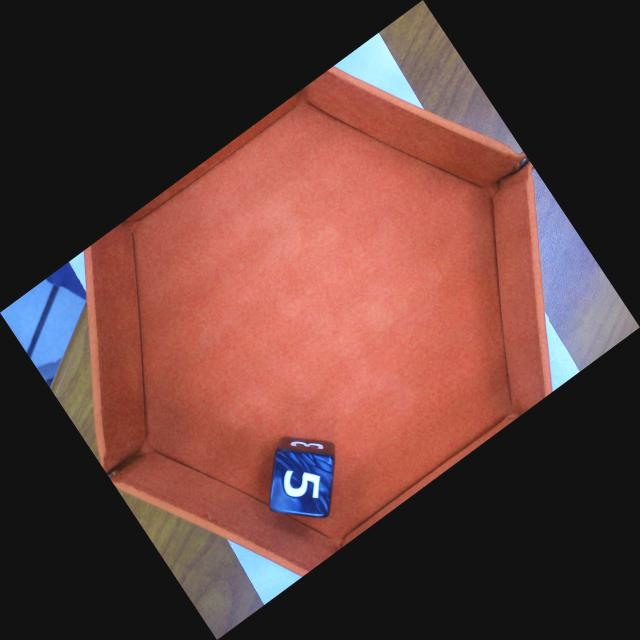dice: (271, 451, 334, 516)
